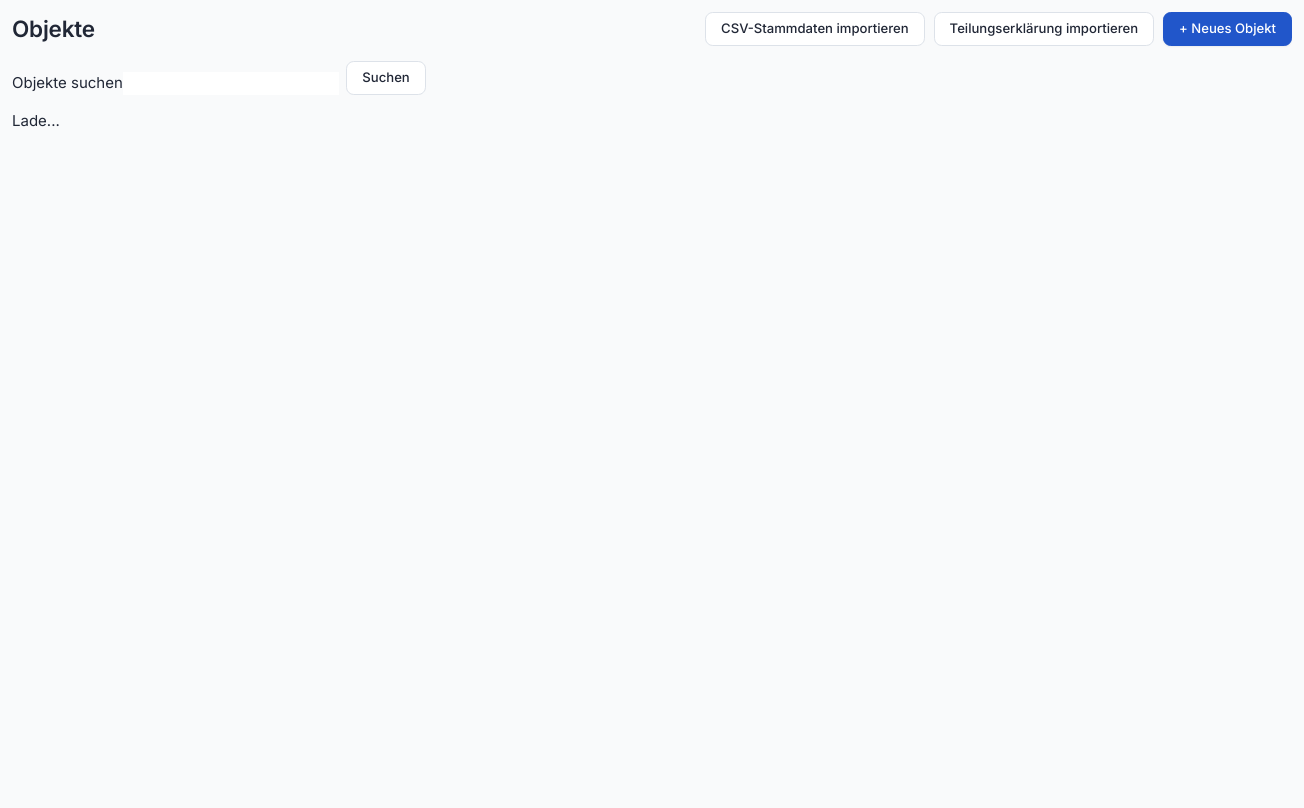
requires explicit audience choice and retains creation payload/key after a lost response
Click the button "+ Neues Objekt" at (1228, 29), box [1163,12,1292,46]
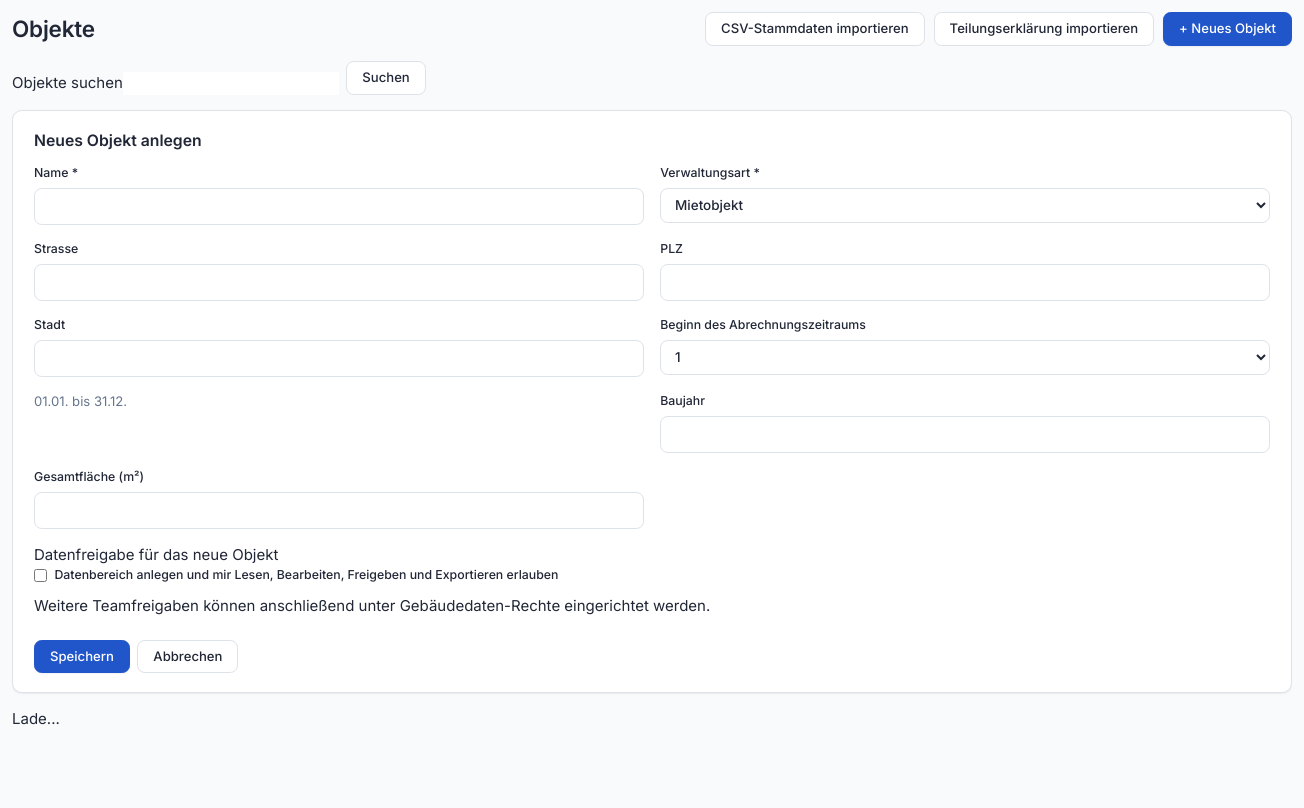
Expected: the checkbox labelled "Datenbereich anlegen" is not checked, [34,569,47,582]
Type "Reviewed house" into the field labelled "Name *" at (339, 206), box [34,188,644,225]
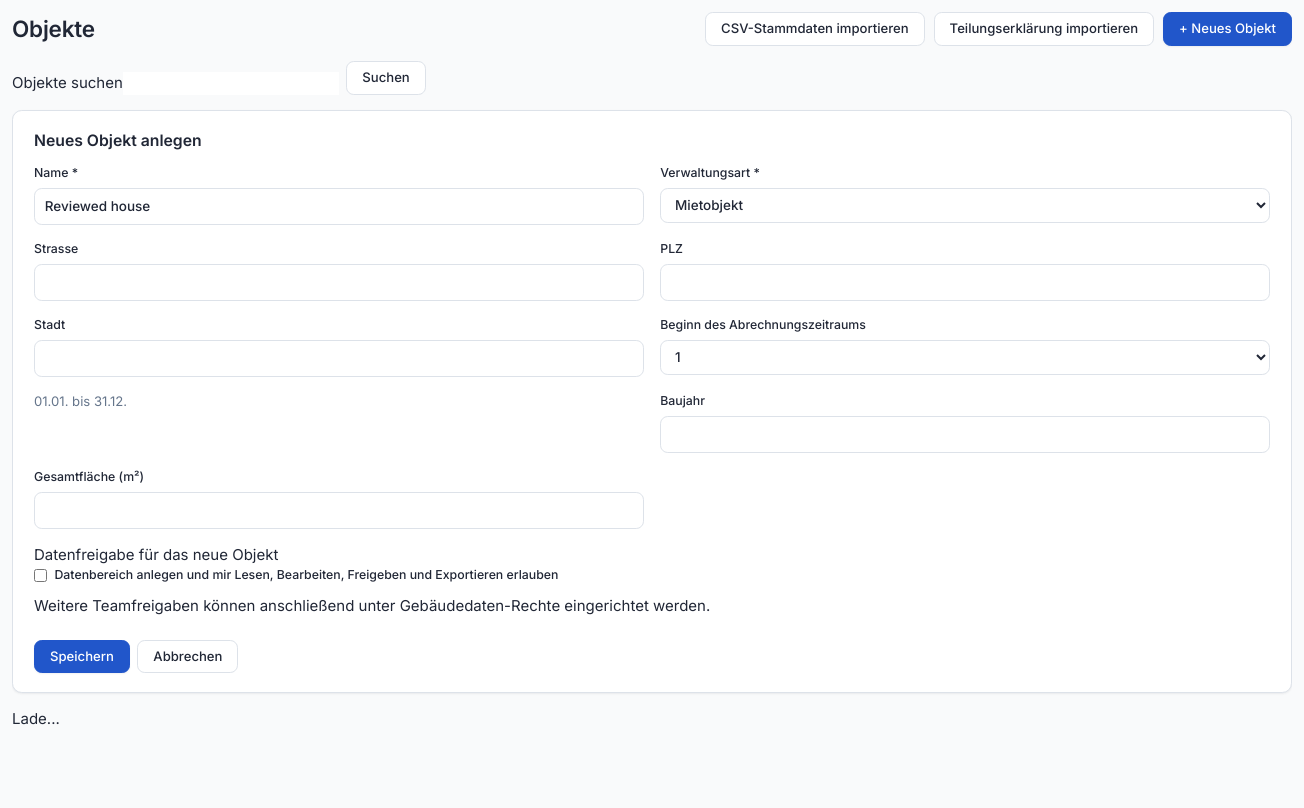
Click the checkbox labelled "Datenbereich anlegen" at (40, 576), box [34,569,47,582]
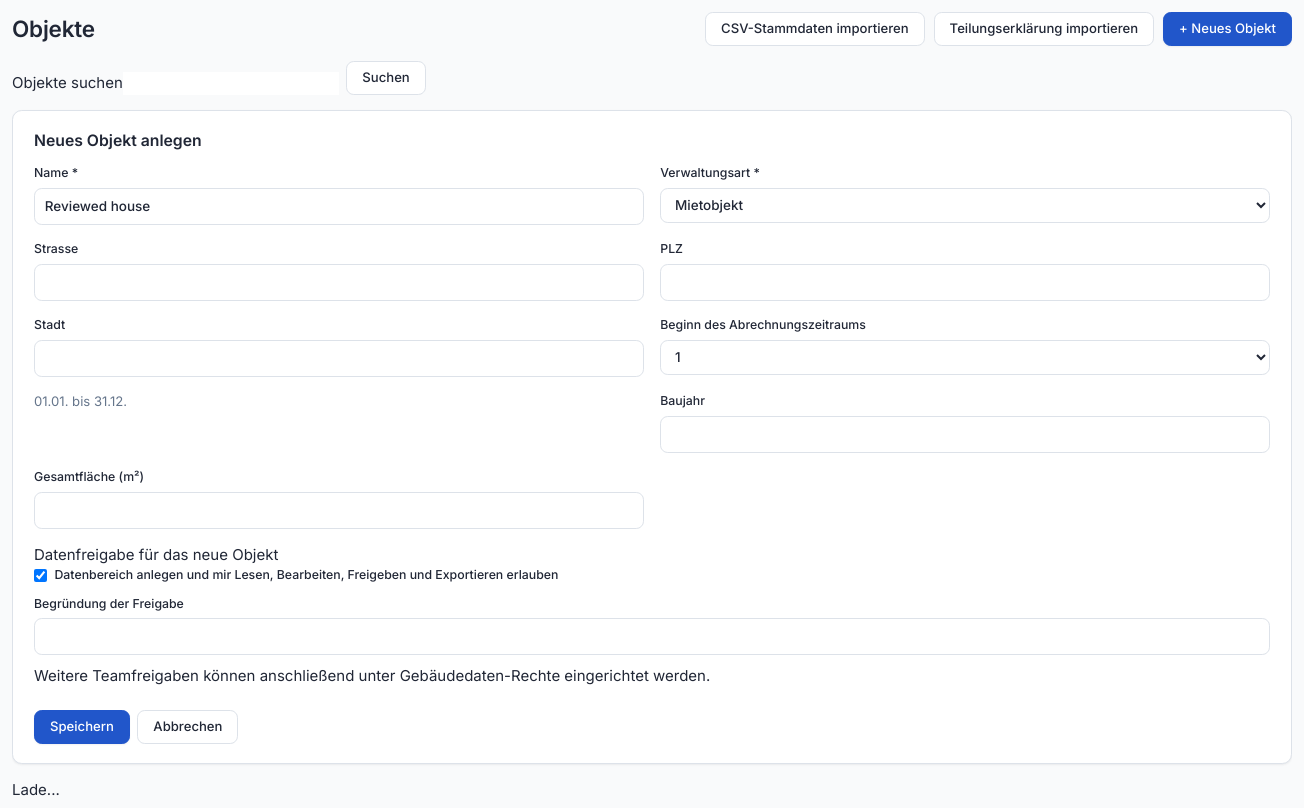
Type "Responsible for this building" into the field labelled "Begründung der Freigabe" at (652, 637), box [34,618,1270,656]
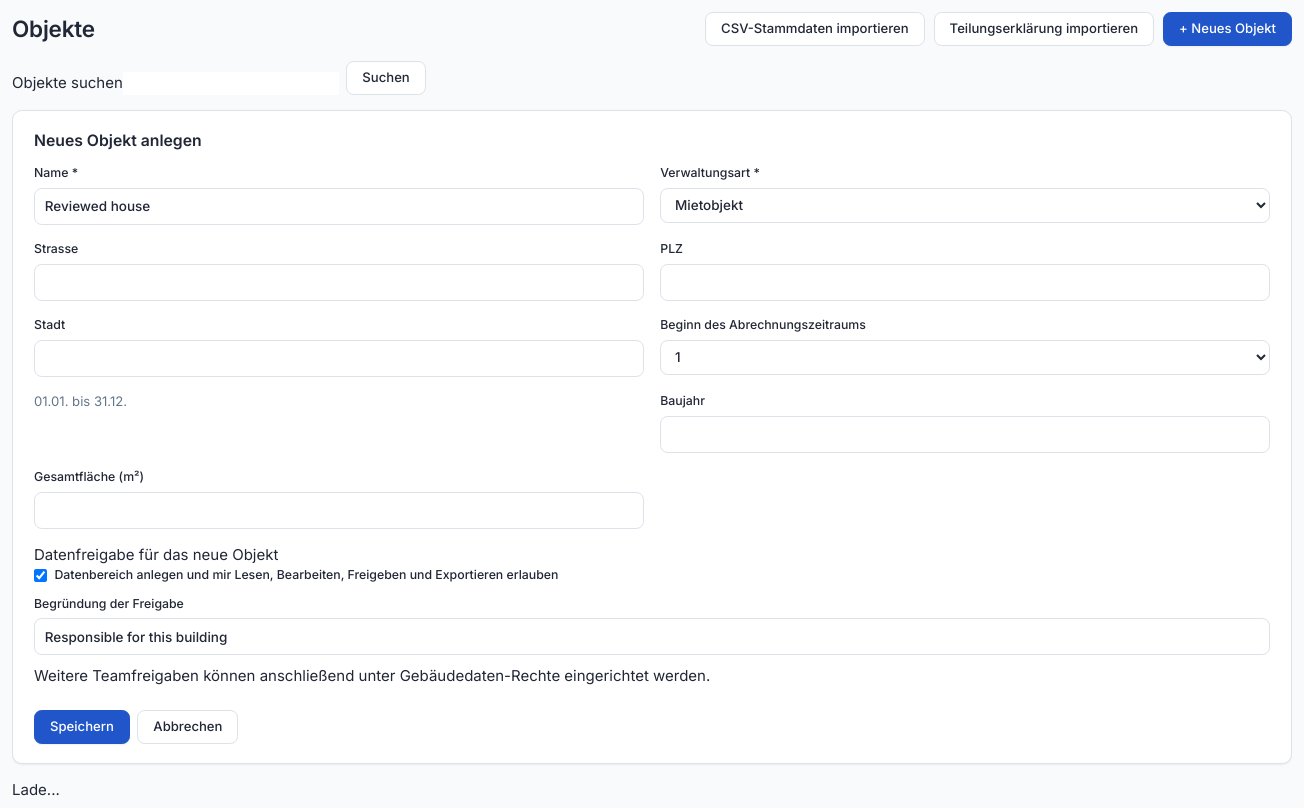
Click the button "Speichern" at (82, 727), box [34,710,130,744]
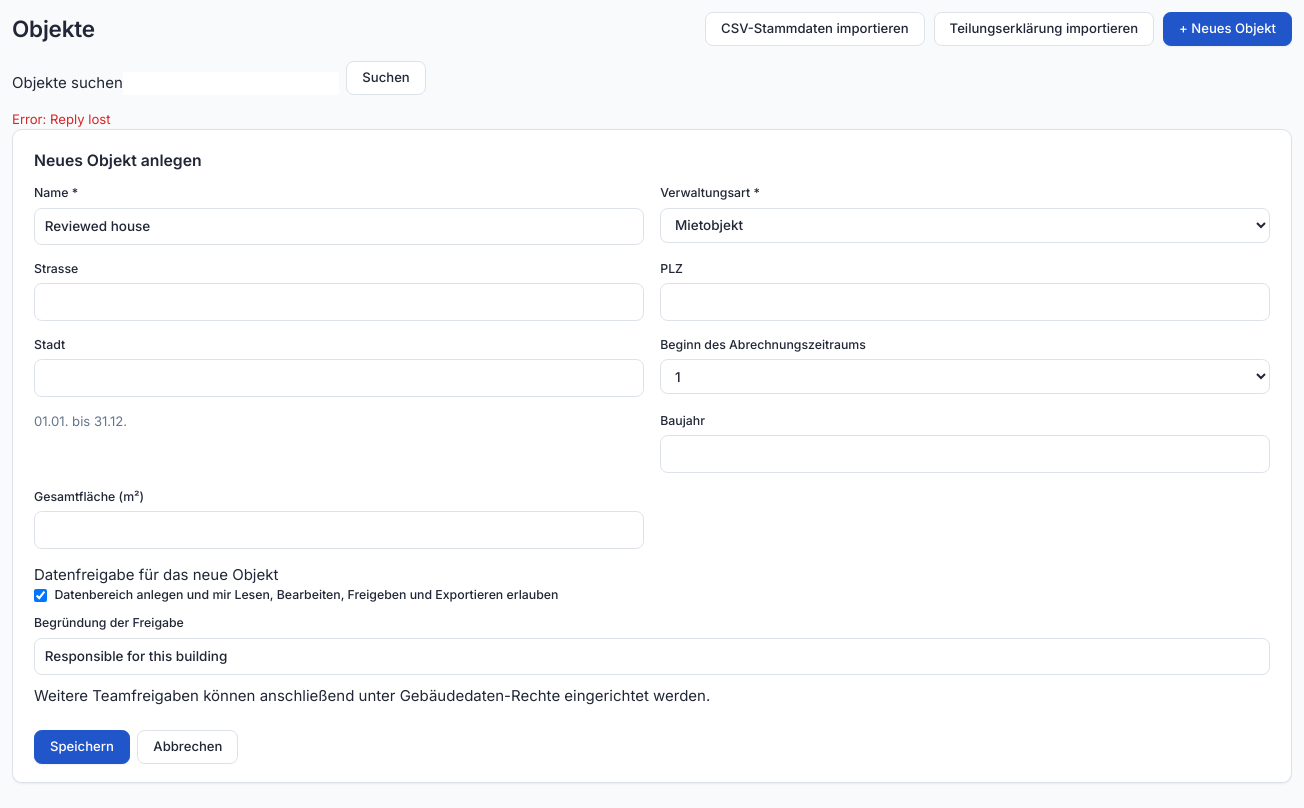
Expected: the text "Error: Reply lost" is shown, [12,110,110,126]
Click the button "Speichern" at (82, 747), box [34,730,130,764]
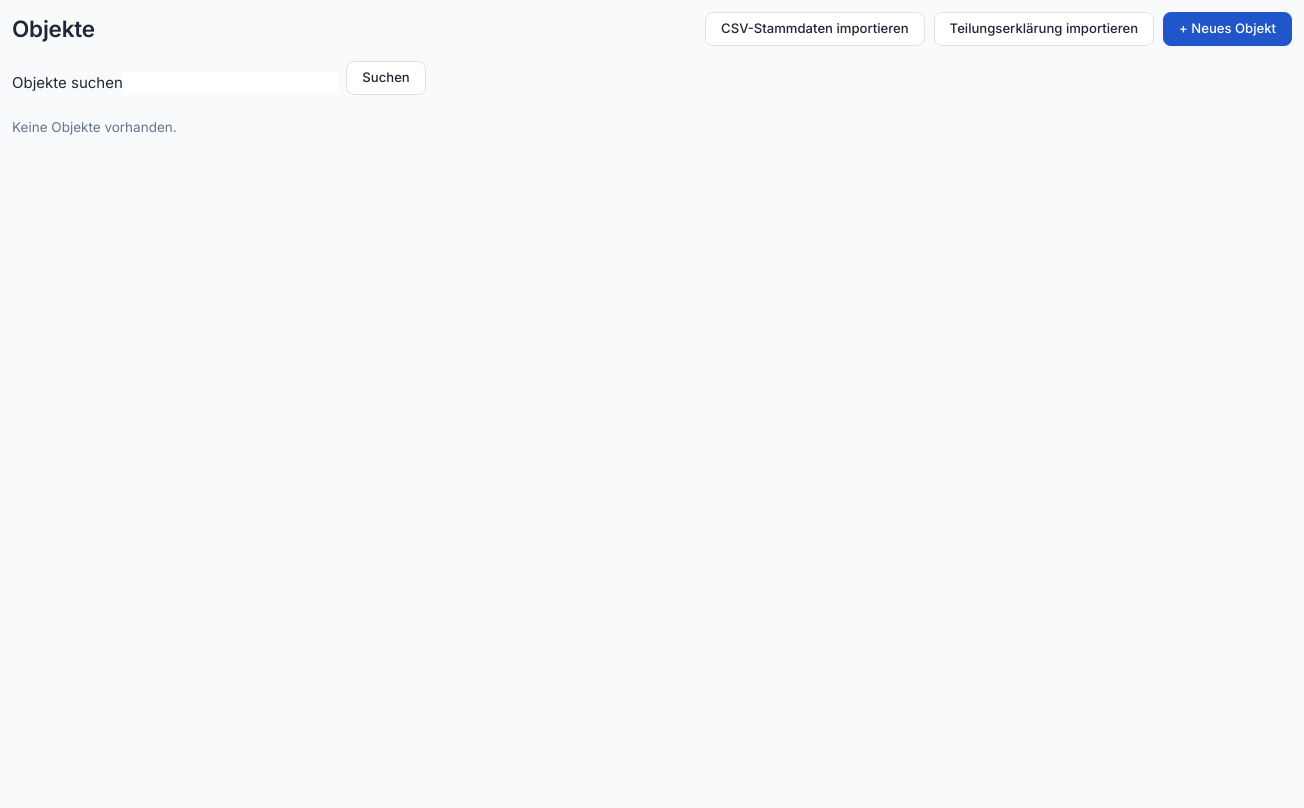
Expected: the button "Speichern" is gone
